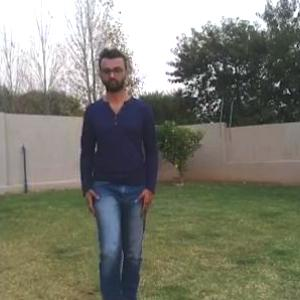follow: (83, 55, 154, 299)
